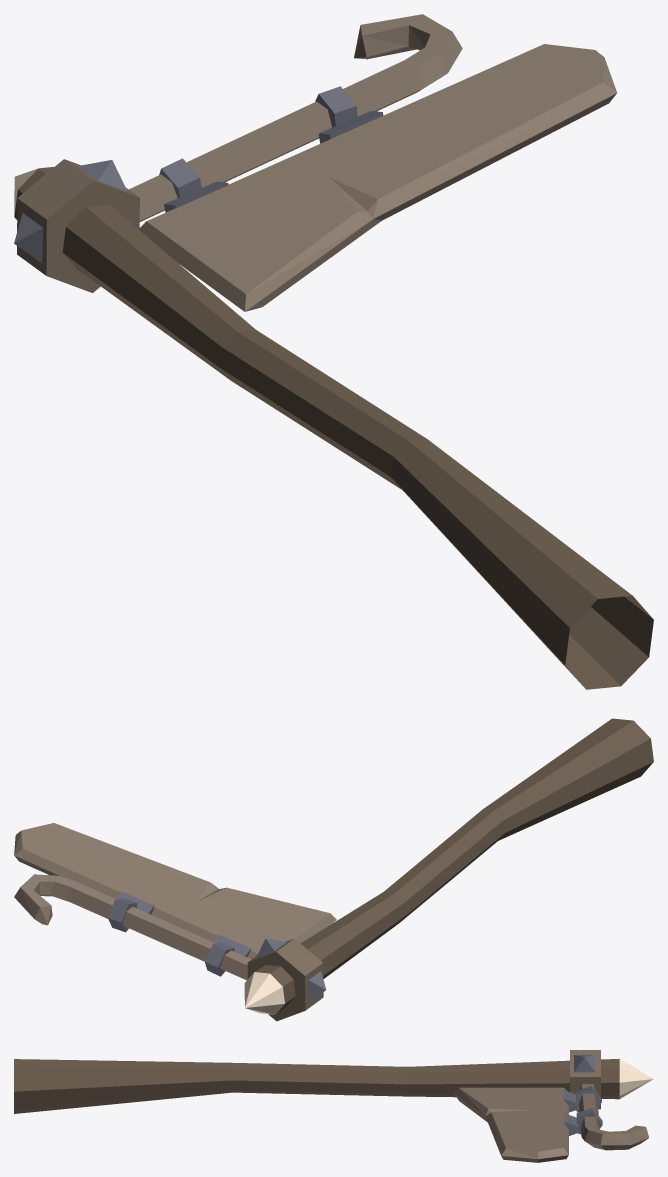
Rendered from pointer_1.glb.
The picture shows the model from 3 angles, top to bottom: view 1: azimuth 30°, elevation 25°; view 2: azimuth 150°, elevation 25°; view 3: azimuth 270°, elevation 25°; orthographic projection. The views are drawn at different scales.
Parts seen in each view (by area): view 1: pointer_1; view 2: pointer_1; view 3: pointer_1.
Part boxes in pixels (left/top/right/bottom): pointer_1: left=14, top=14, right=653, bottom=689; pointer_1: left=14, top=718, right=653, bottom=1021; pointer_1: left=14, top=1050, right=653, bottom=1162.
Bounding box in the file's own units: 0.9371 × 0.2592 × 1.8.
1 material, 1 textured.
